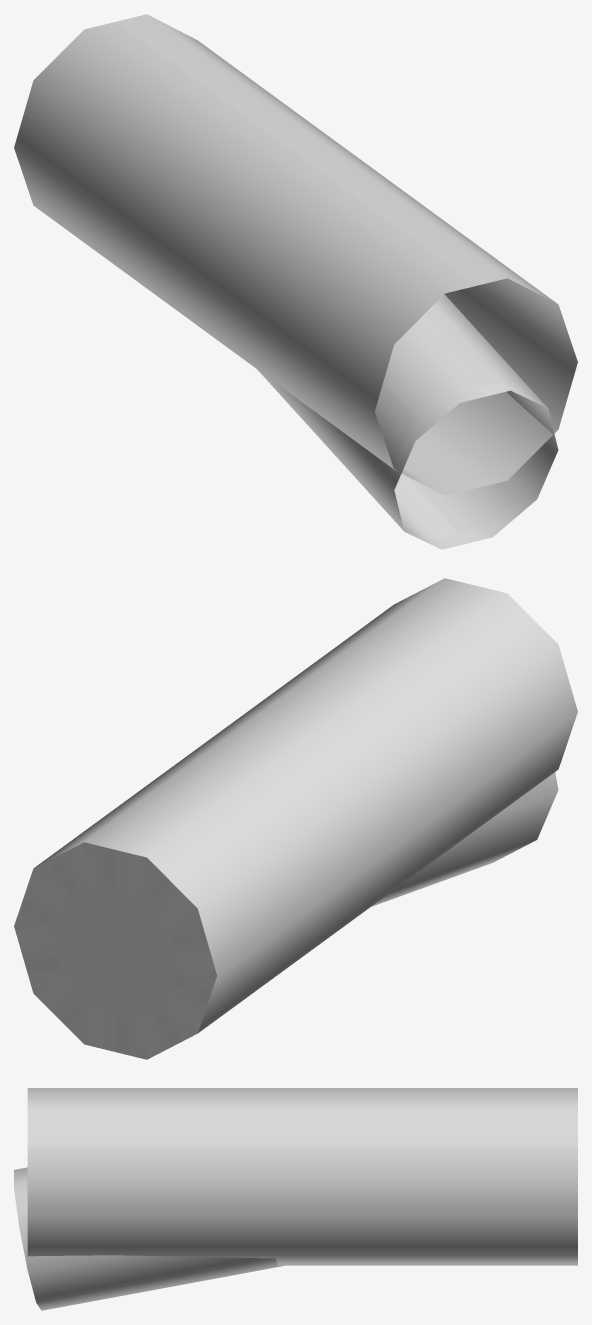
File: trusssignalarm_level6_c9.obj
The picture shows the model from 3 angles, top to bottom: view 1: azimuth 30°, elevation 25°; view 2: azimuth 150°, elevation 25°; view 3: azimuth 270°, elevation 25°; orthographic projection. The views are drawn at different scales.
Parts seen in each view (by area): view 1: trusssignalarm_level6_c9; view 2: trusssignalarm_level6_c9; view 3: trusssignalarm_level6_c9.
Boxes of the visible parts, left/top/right/bottom form: trusssignalarm_level6_c9: left=14, top=14, right=577, bottom=549; trusssignalarm_level6_c9: left=14, top=578, right=577, bottom=1059; trusssignalarm_level6_c9: left=14, top=1088, right=577, bottom=1310.
Size of the model in its own units: 0.325 by 0.4039 by 1.02.
